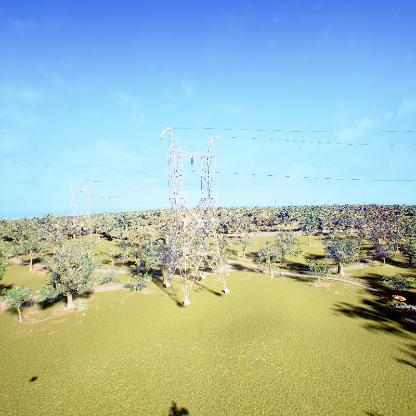tower: (157, 122, 231, 312), (65, 177, 94, 243)
